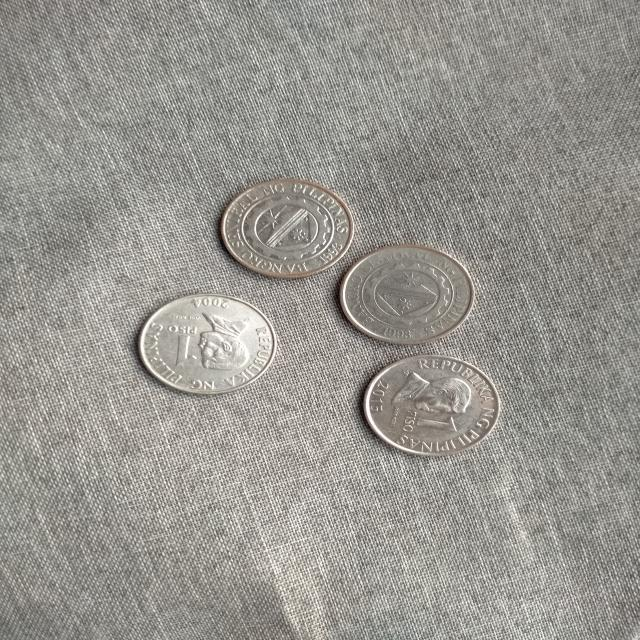1_Old_Back: (354, 256, 456, 336), (235, 190, 333, 268)
